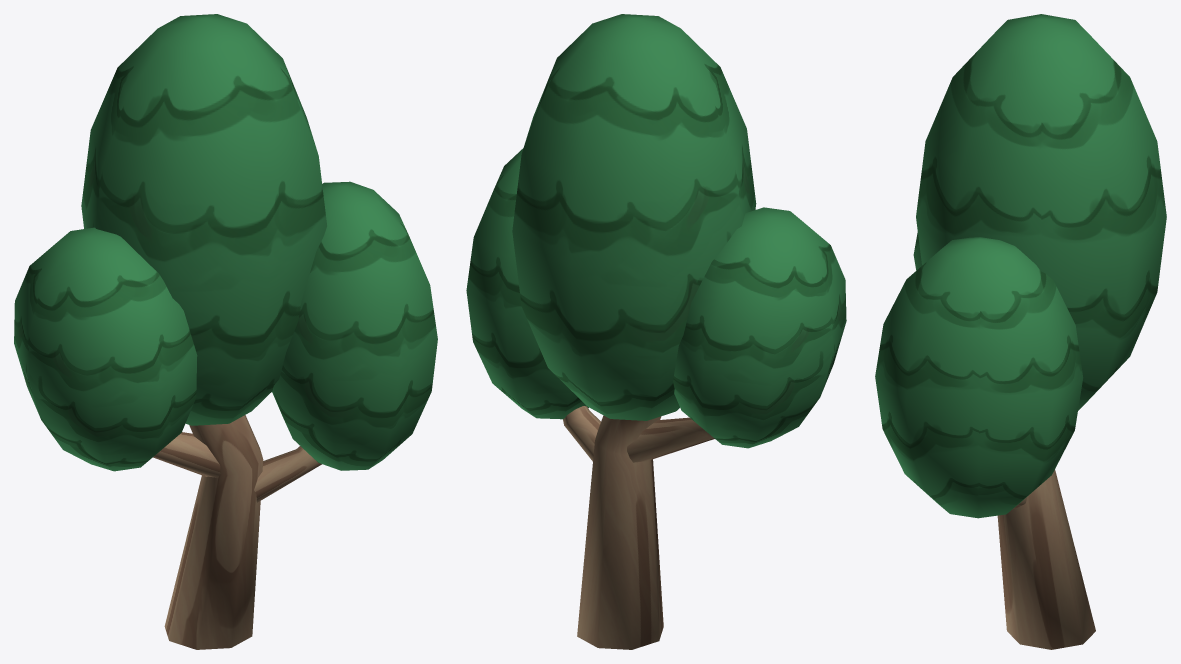
Rendered from tree_maru.fbx.
3 renders of one model, left to right at view 1: azimuth 30°, elevation 25°; view 2: azimuth 150°, elevation 25°; view 3: azimuth 270°, elevation 25°, orthographic.
Parts seen in each view (by area): view 1: tree_maru; view 2: tree_maru; view 3: tree_maru.
Part boxes in pixels (box(x1,y1,x2,y2)): tree_maru: box(14, 14, 437, 649); tree_maru: box(466, 14, 846, 649); tree_maru: box(875, 14, 1166, 649).
Size of the model in its own units: 4.91 by 7.75 by 3.37.
Materials: 1 (1 with a texture image).
